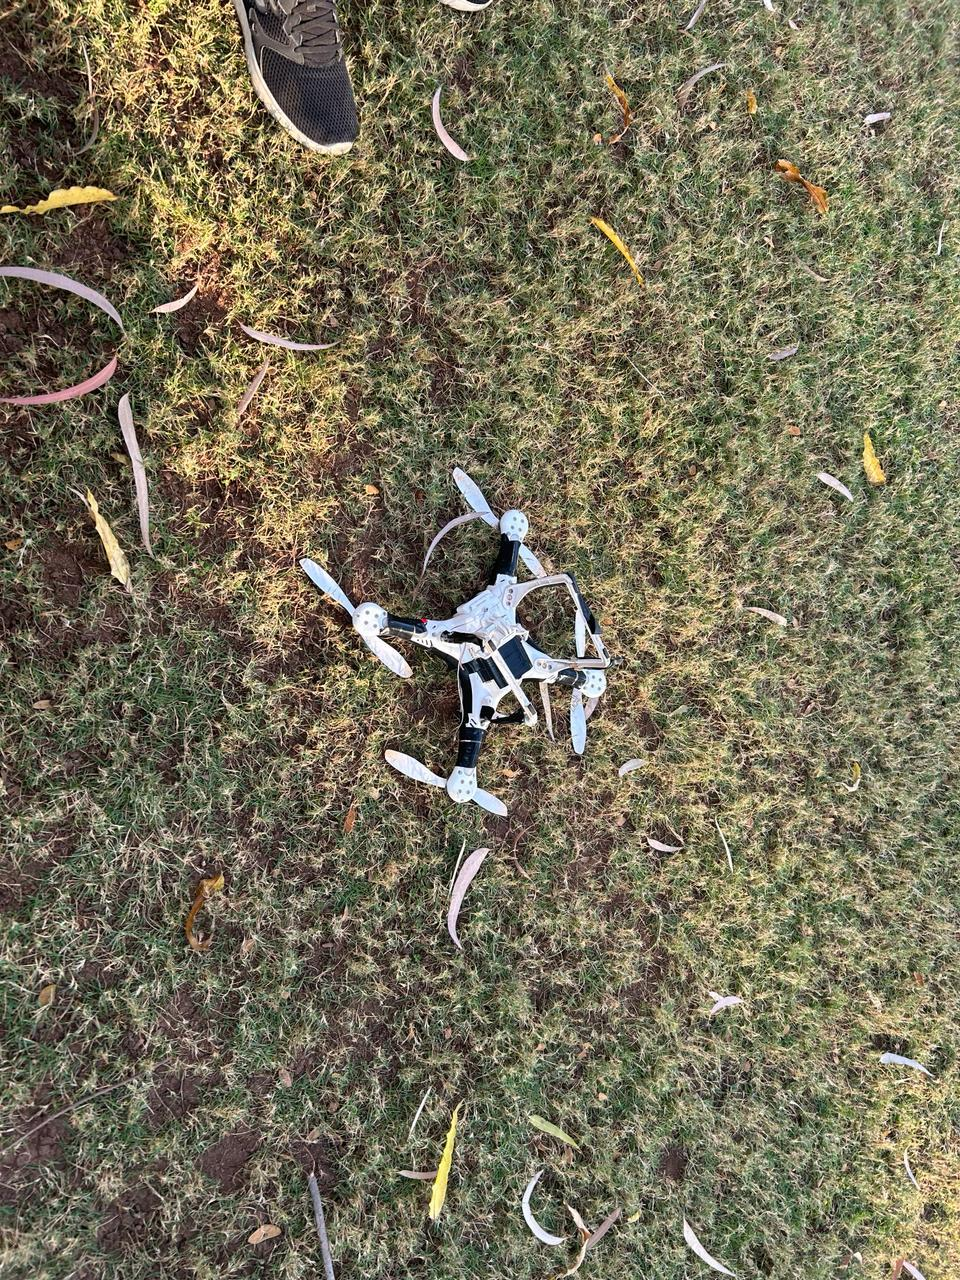drone: (241, 411, 743, 938)
